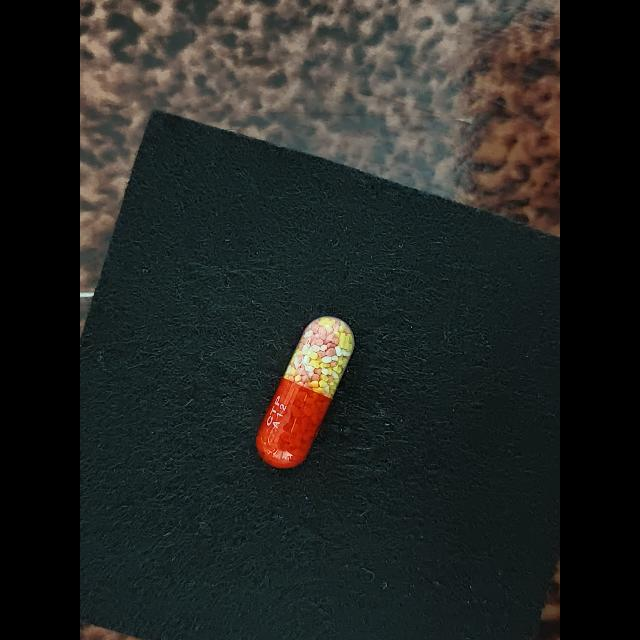Intact Capsule: (256, 316, 354, 468)
